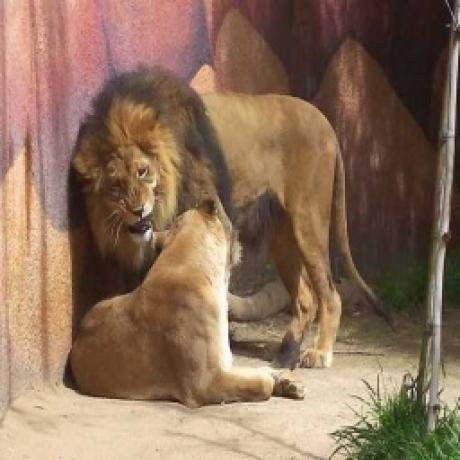Lion: (70, 63, 402, 372), (70, 197, 303, 406)
